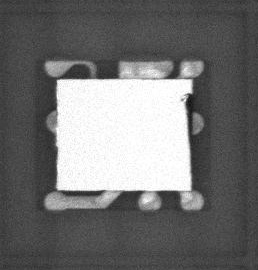DIE_BROKEN: (180, 92, 193, 150)
